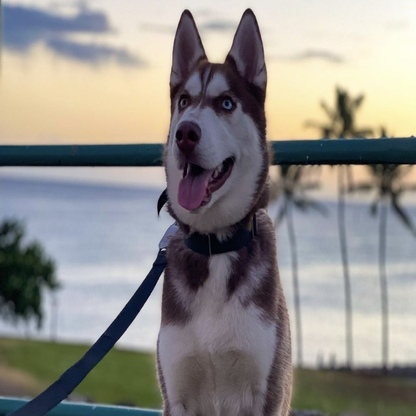husky: (149, 5, 303, 413)
